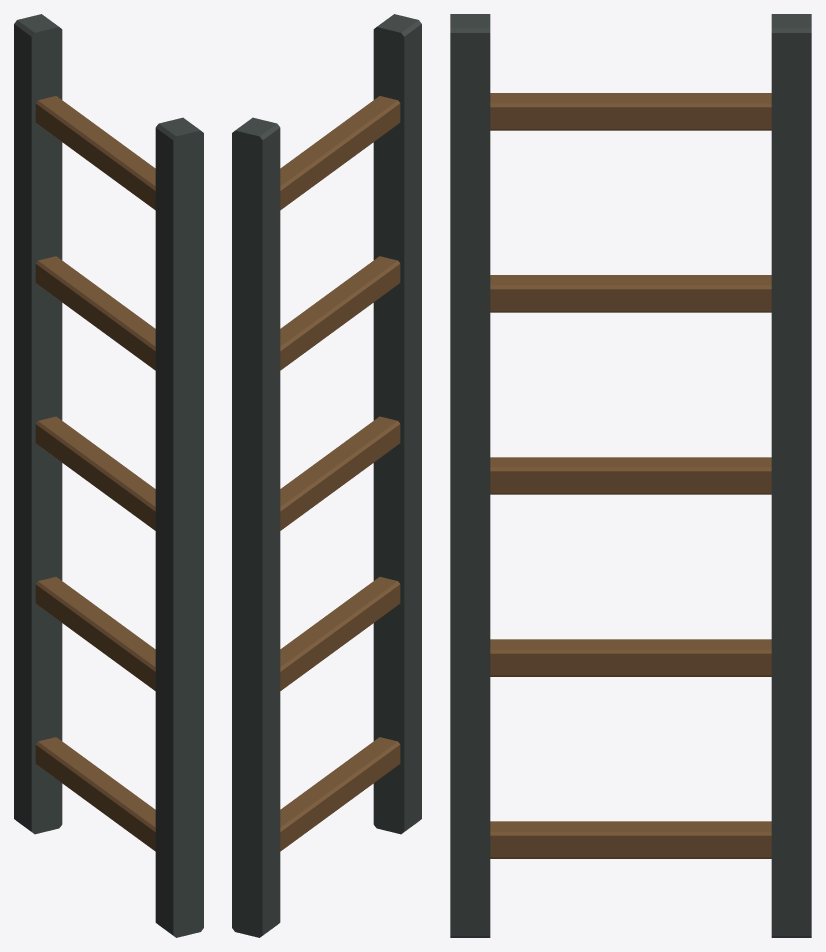
Rendered from Ladder.gltf.
3 views of the same model, side by side, from view 1: azimuth 30°, elevation 25°; view 2: azimuth 150°, elevation 25°; view 3: azimuth 270°, elevation 25° (orthographic). The views are drawn at different scales.
Visible parts, largest first — view 1: Ladder; view 2: Ladder; view 3: Ladder.
Part boxes in pixels (left/top/right/bottom): Ladder: left=14, top=14, right=203, bottom=937; Ladder: left=232, top=14, right=421, bottom=937; Ladder: left=450, top=14, right=811, bottom=937.
Size of the model in its own units: 0.04 by 1 by 0.36.
